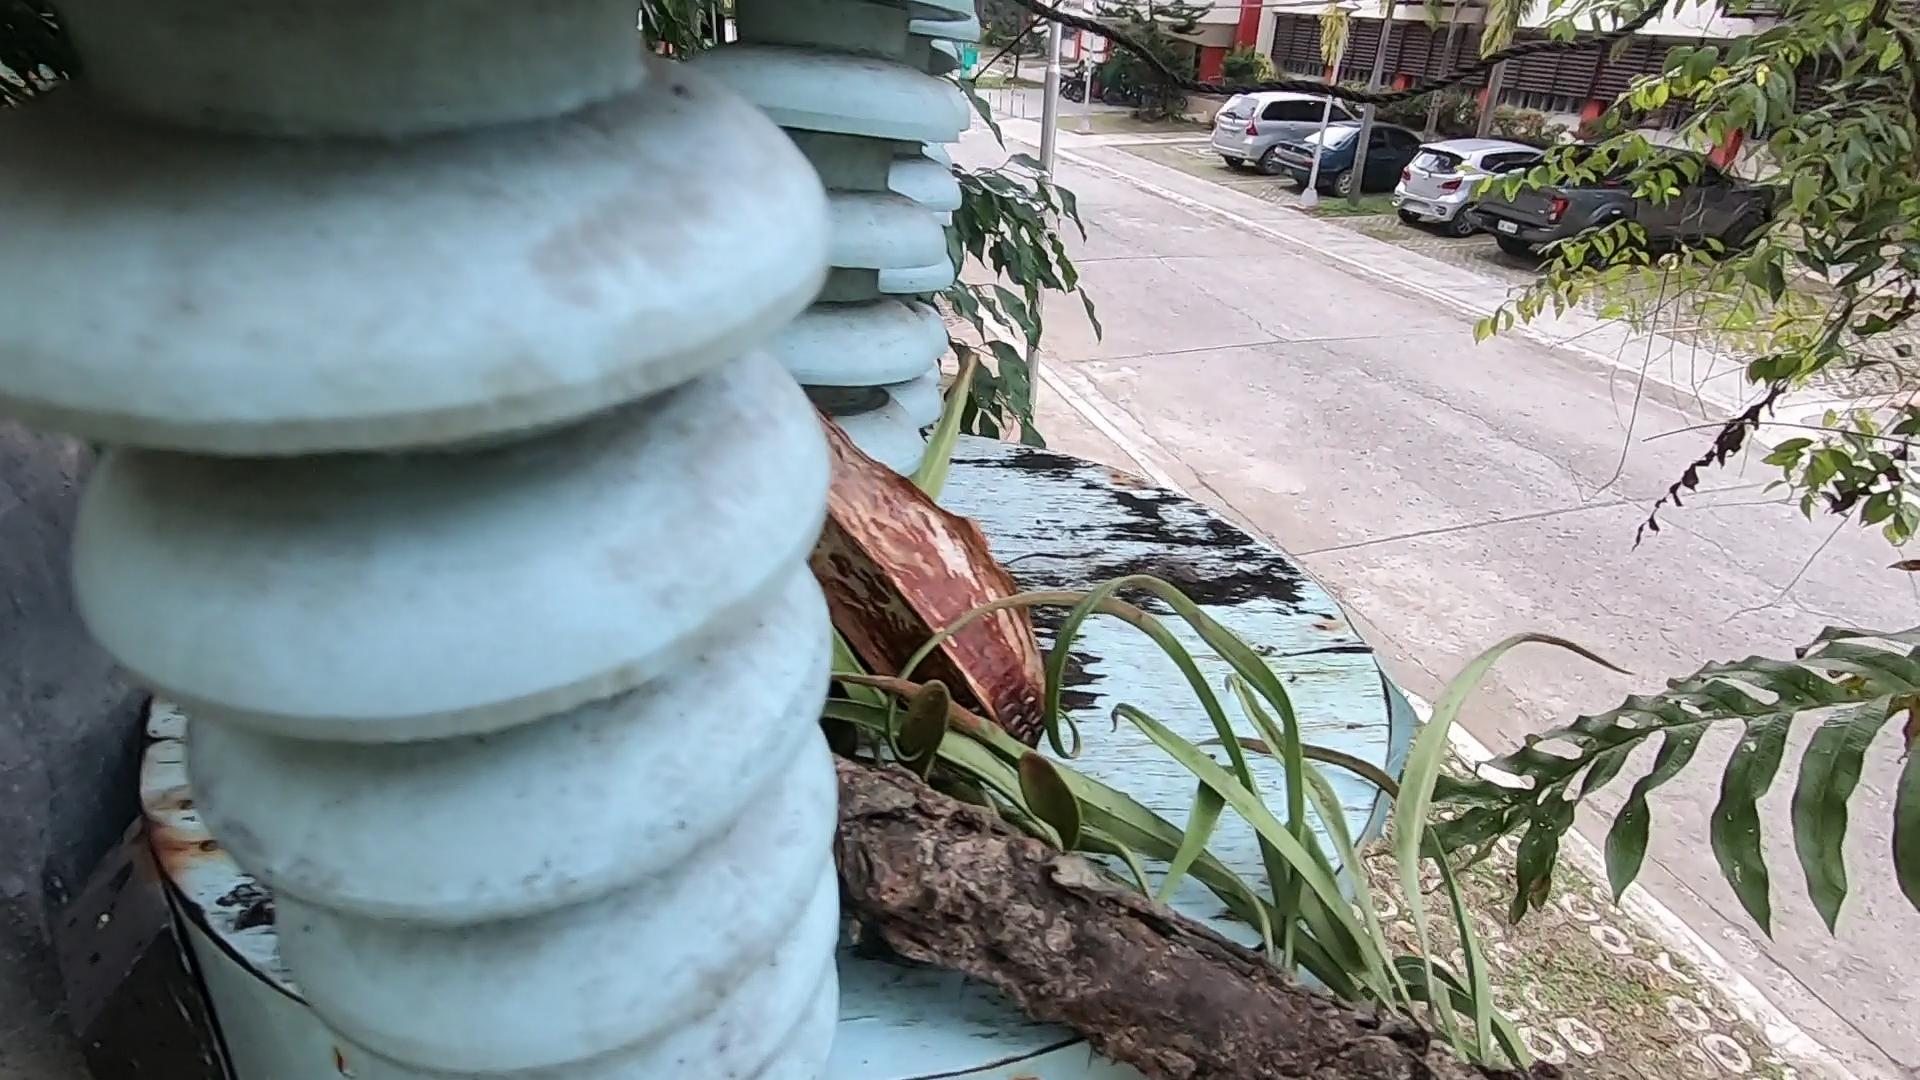branch with leaves: (845, 765, 1447, 1080)
mahogany fruit: (684, 290, 1261, 738)
